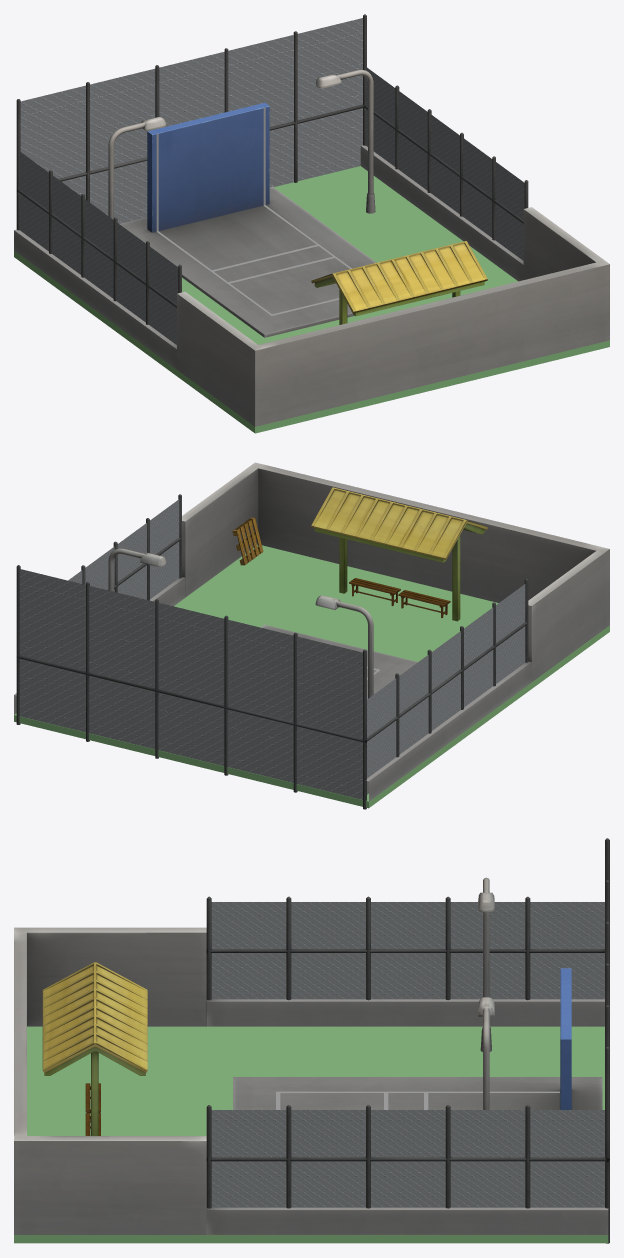
The model's file is Garden_Lobby.fbx.
3 views of the same model, one above another, from view 1: azimuth 30°, elevation 25°; view 2: azimuth 150°, elevation 25°; view 3: azimuth 270°, elevation 25° (orthographic). The views are drawn at different scales.
Visible parts, largest first — view 1: Chainlink1, Sidewalls, Conc_Floor, GrassPlane, WALL1, Poles, BenchShade, LightPoles, Lines; view 2: Chainlink1, Sidewalls, GrassPlane, Poles, BenchShade, LightPoles, Conc_Floor, WoodPallet, Bench_2, Bench_; view 3: Chainlink1, Sidewalls, GrassPlane, Poles, Conc_Floor, BenchShade, LightPoles, WALL1, Lines.
Part boxes in pixels (x1=…): Chainlink1: x1=19, y1=18, x2=524, y2=344; Sidewalls: x1=14, y1=145, x2=609, y2=426; Conc_Floor: x1=119, y1=186, x2=376, y2=337; GrassPlane: x1=14, y1=166, x2=609, y2=433; WALL1: x1=147, y1=103, x2=269, y2=232; Poles: x1=16, y1=14, x2=528, y2=324; BenchShade: x1=311, y1=241, x2=487, y2=324; LightPoles: x1=108, y1=69, x2=375, y2=219; Lines: x1=156, y1=107, x2=351, y2=315; Chainlink1: x1=20, y1=499, x2=525, y2=799; Sidewalls: x1=14, y1=462, x2=609, y2=801; GrassPlane: x1=14, y1=545, x2=609, y2=808; Poles: x1=16, y1=494, x2=528, y2=809; BenchShade: x1=311, y1=487, x2=487, y2=621; LightPoles: x1=108, y1=548, x2=373, y2=698; Conc_Floor: x1=261, y1=624, x2=417, y2=699; WoodPallet: x1=232, y1=517, x2=263, y2=565; Bench_2: x1=398, y1=590, x2=450, y2=617; Bench_: x1=349, y1=578, x2=400, y2=605; Chainlink1: x1=211, y1=902, x2=604, y2=1207; Sidewalls: x1=14, y1=927, x2=608, y2=1234; GrassPlane: x1=14, y1=1026, x2=608, y2=1243; Poles: x1=206, y1=838, x2=609, y2=1243; Conc_Floor: x1=233, y1=1077, x2=602, y2=1109; BenchShade: x1=42, y1=962, x2=147, y2=1135; LightPoles: x1=478, y1=877, x2=494, y2=1109; WALL1: x1=560, y1=968, x2=571, y2=1109; Lines: x1=276, y1=1091, x2=559, y2=1109.
Size of the model in its own units: 18.39 by 7.86 by 21.7.
